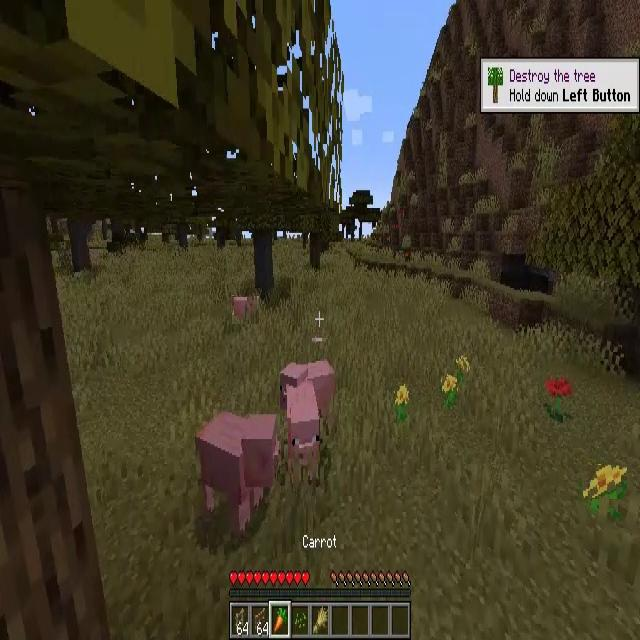flower: (582, 465, 627, 499), (545, 376, 568, 415), (442, 376, 457, 400), (395, 384, 409, 405), (457, 354, 471, 370)
pig: (199, 414, 281, 518), (280, 362, 333, 420), (291, 383, 321, 480), (232, 296, 259, 324)
